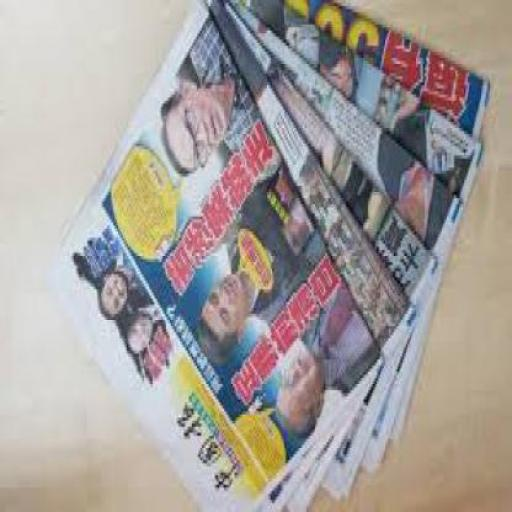paper: (56, 2, 388, 511), (206, 3, 440, 503), (233, 3, 483, 470), (233, 3, 492, 439), (200, 2, 418, 511), (228, 2, 464, 472)
